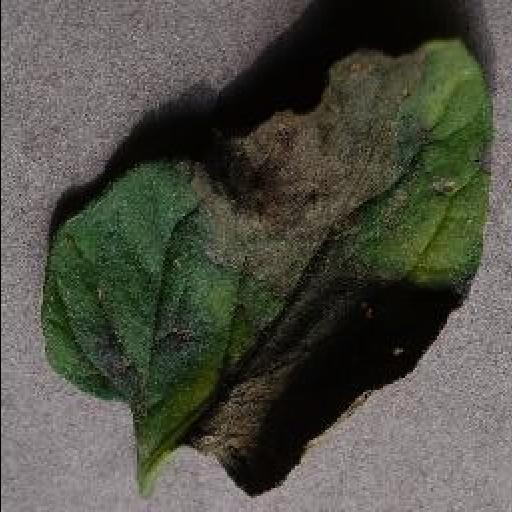disease_tomato: (36, 36, 492, 498)
